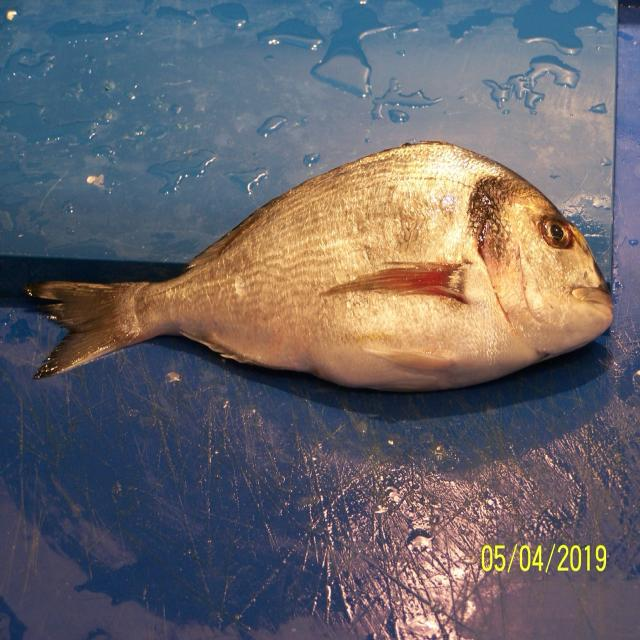Gilt-Head-Bream-c-ipura-: (22, 140, 614, 396)
